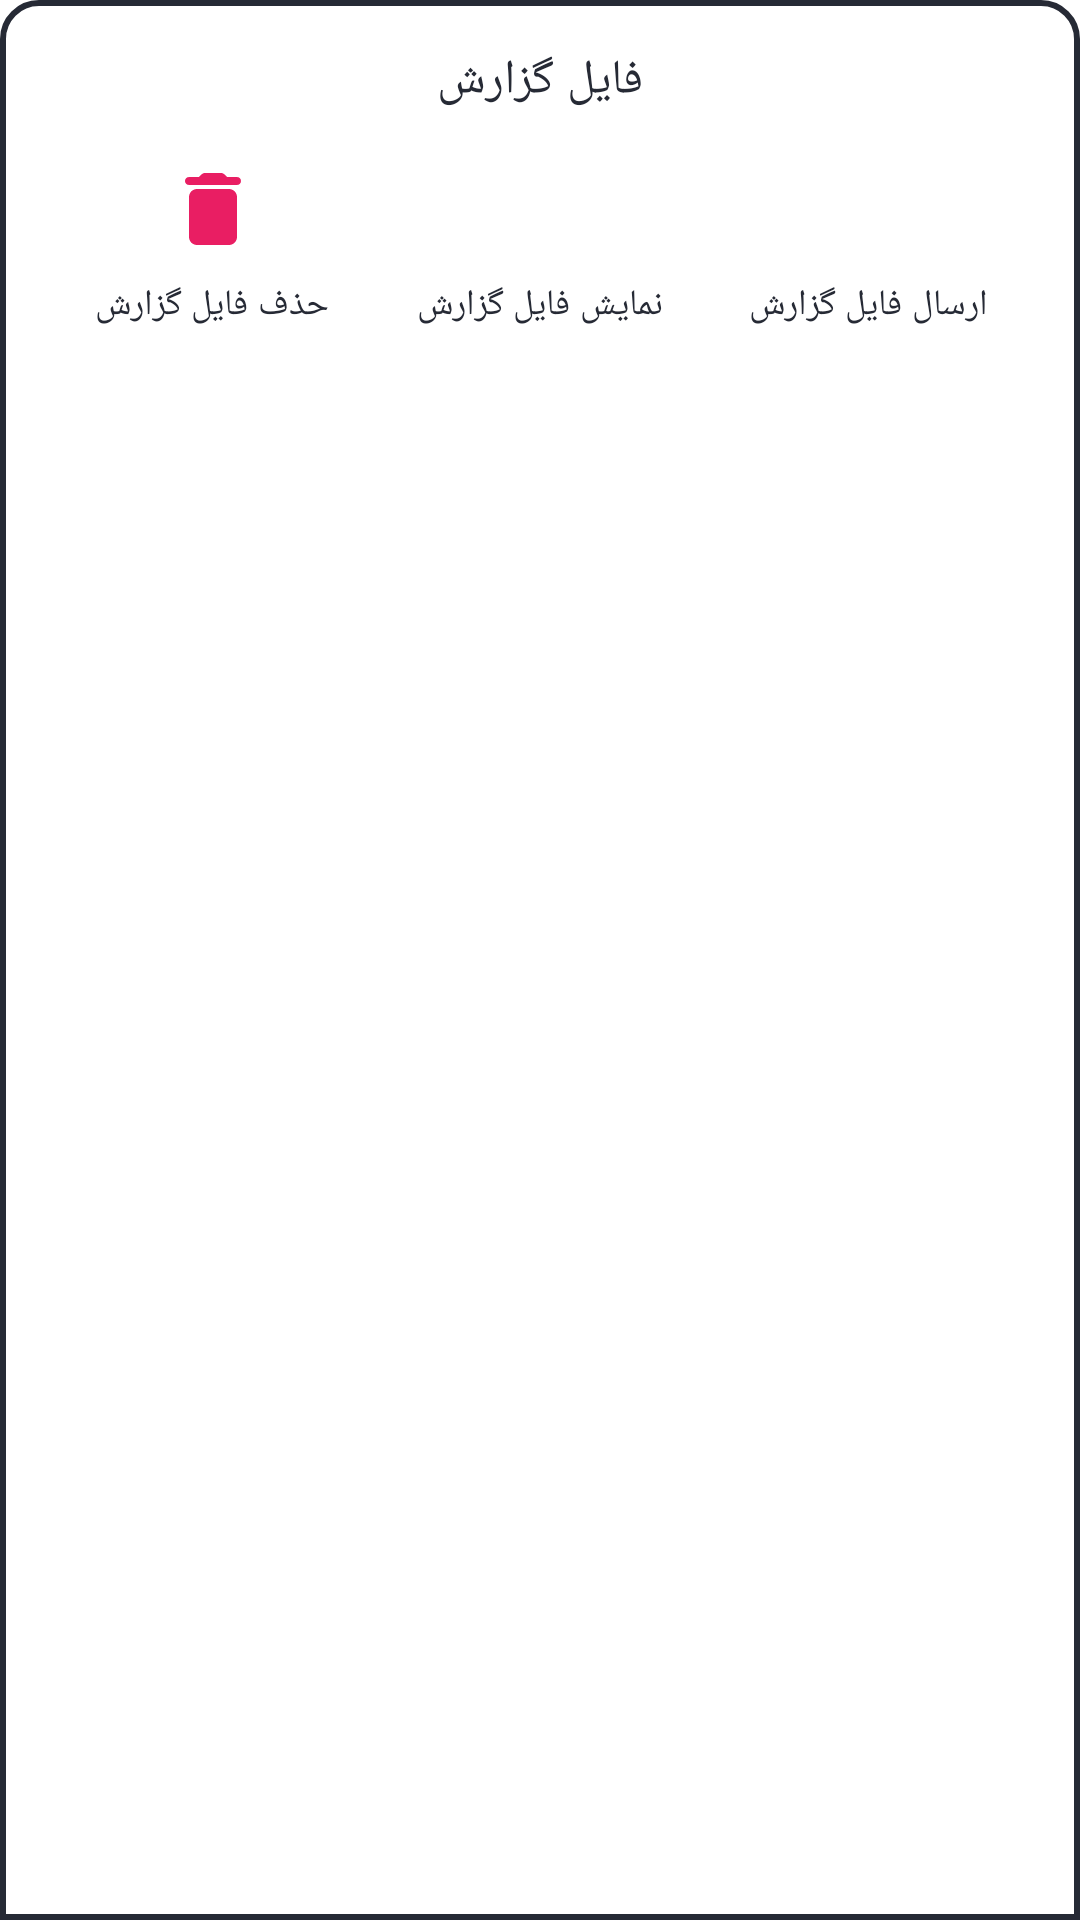

Icon bounding boxes for this 1080*1920 phone screenshot, format (x1=x1, y1=y1, x2=x2, y2=y2):
delete: (x1=185, y1=173, x2=241, y2=245)
